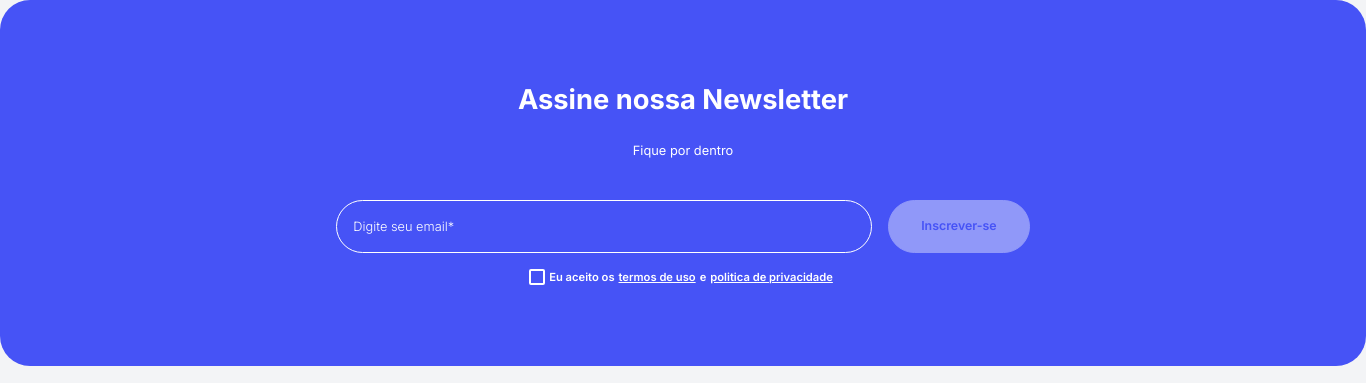
Scenario: Newsletter form › enables submit for valid email
In the field with placeholder "Digite seu email*": (604, 227) [336,200,872,253], type "valid@email.com"
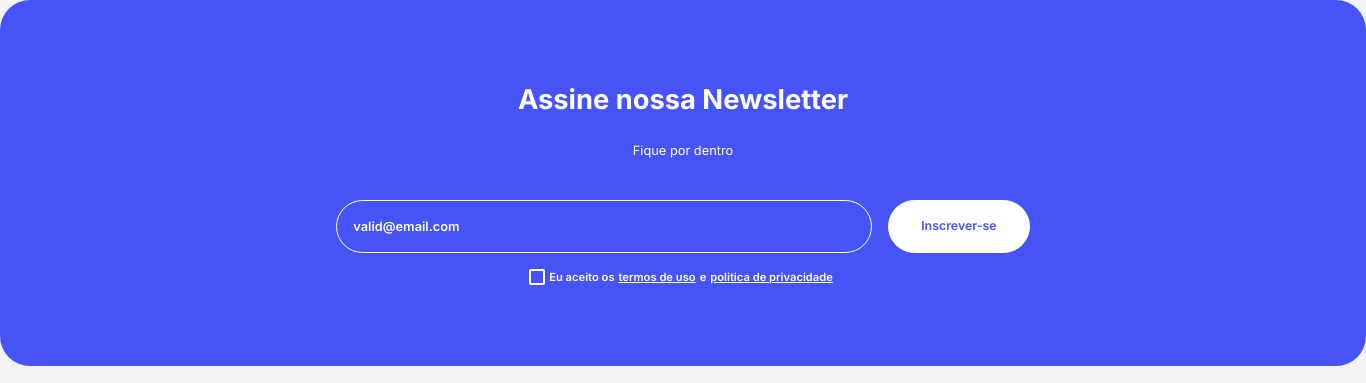
Expected: the button "Inscrever-se" is enabled, [888,200,1030,253]
